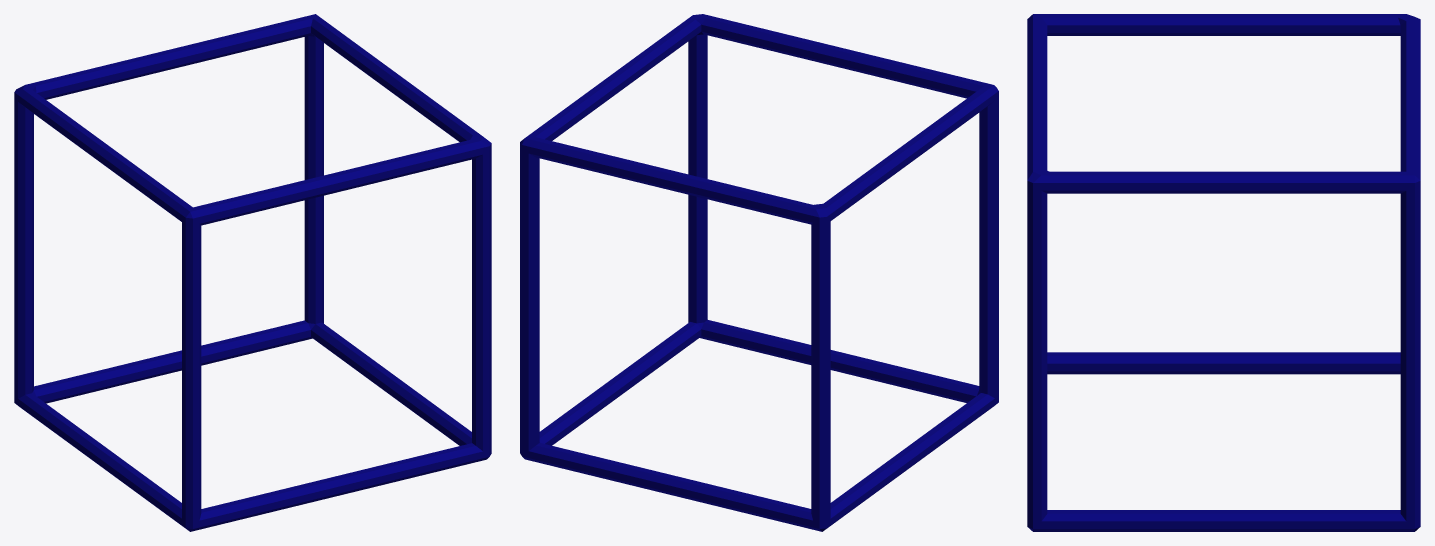
The model's file is frame-corner.glb.
3 renders of one model, left to right at view 1: azimuth 30°, elevation 25°; view 2: azimuth 150°, elevation 25°; view 3: azimuth 270°, elevation 25°, orthographic. The views are drawn at different scales.
Parts seen in each view (by area): view 1: 立方体.003; view 2: 立方体.003; view 3: 立方体.003.
Part boxes in pixels (x1,y1,x2,y2): 立方体.003: [14, 14, 491, 531]; 立方体.003: [520, 14, 998, 531]; 立方体.003: [1027, 14, 1420, 531].
Bounding box in the file's own units: 1.07 × 1.07 × 1.07.
